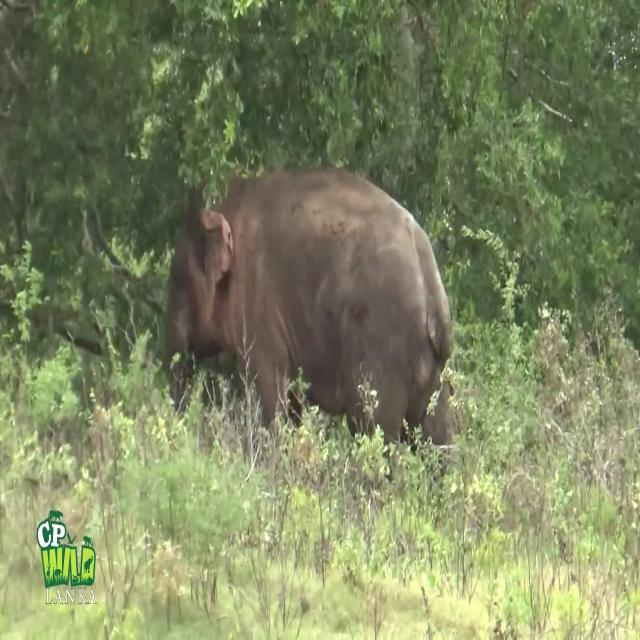Elephant: (162, 165, 458, 477)
